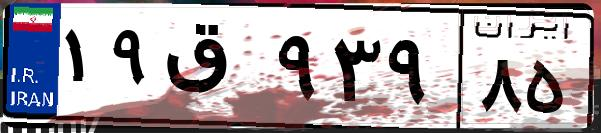1: (57, 26, 110, 100)
3: (330, 28, 385, 110)
5: (525, 38, 570, 115)
8: (475, 38, 525, 113)
9: (270, 28, 330, 110), (385, 28, 445, 110), (110, 28, 158, 98)
ق: (158, 20, 270, 120)
